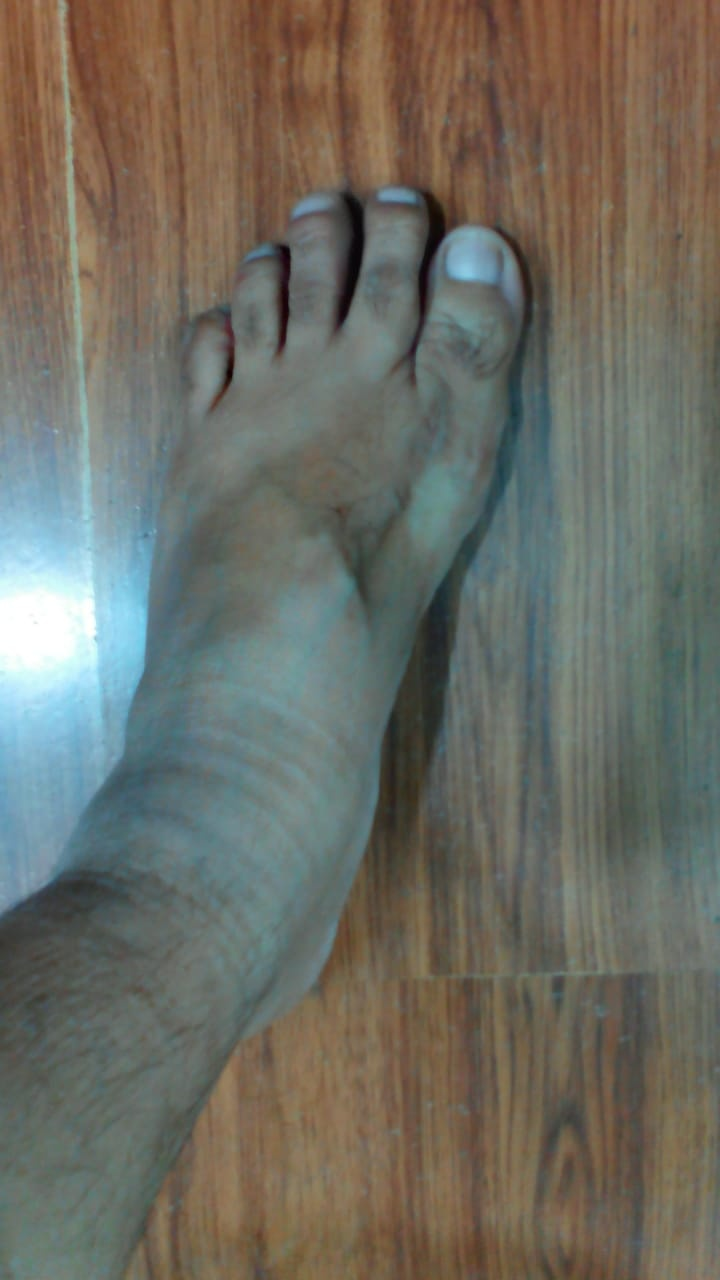feet: (117, 184, 529, 1012)
